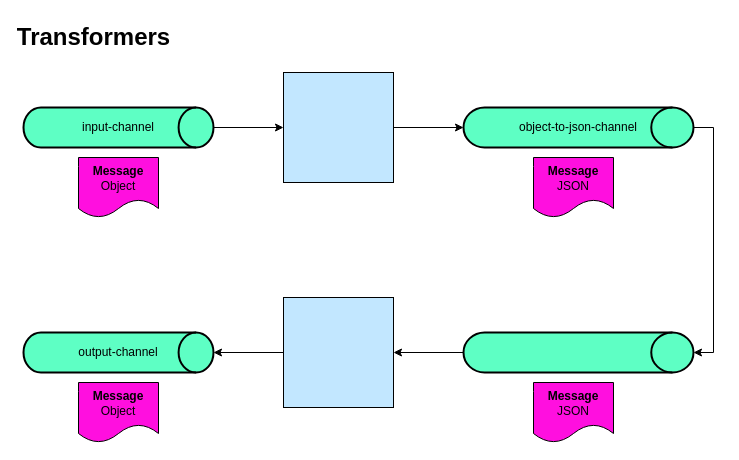
Some shapes in this 739 by 460 pixel diagram are drawn without their labels. The shapes that lost their labels are listed below. From the top down, each one's box as (x1, y1, x2, y2) in pixels, then its label:
(282, 72, 394, 182): Transformer [ Object -> JSON ]
(282, 296, 394, 408): Transformer [ JSON -> Object ]
(462, 331, 694, 373): json-to-object-channel
